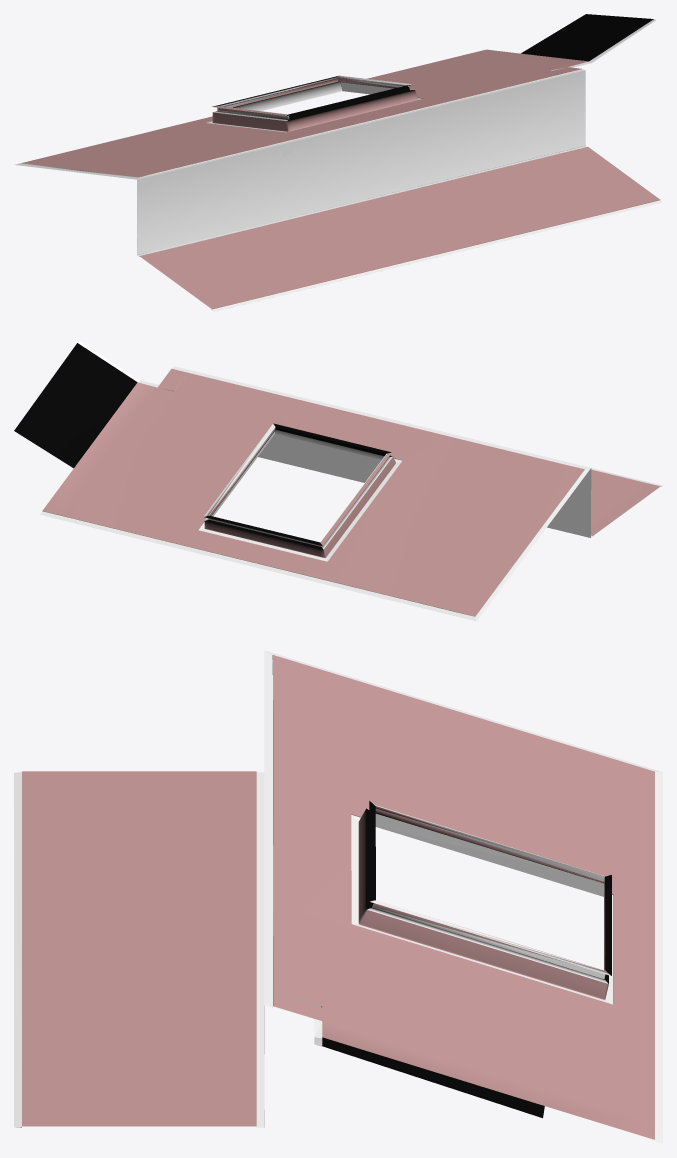
File: SR_SectionCeiling_01.fbx
The picture shows the model from 3 angles, top to bottom: view 1: azimuth 30°, elevation 25°; view 2: azimuth 150°, elevation 25°; view 3: azimuth 270°, elevation 25°; orthographic projection. The views are drawn at different scales.
Visible parts, largest first — view 1: SR_SectionCeiling_01_LOD0, SR_SectionCeiling_01_Col; view 2: SR_SectionCeiling_01_LOD0, SR_SectionCeiling_01_Col; view 3: SR_SectionCeiling_01_LOD0, SR_SectionCeiling_01_Col.
Part boxes in pixels (x1,y1,x2,y2): SR_SectionCeiling_01_LOD0: (21, 14, 660, 310); SR_SectionCeiling_01_Col: (14, 19, 662, 311); SR_SectionCeiling_01_LOD0: (14, 343, 661, 616); SR_SectionCeiling_01_Col: (40, 340, 662, 621); SR_SectionCeiling_01_LOD0: (16, 655, 662, 1143); SR_SectionCeiling_01_Col: (14, 650, 662, 1143).
Size of the model in its own units: 2504 by 418 by 1624.
